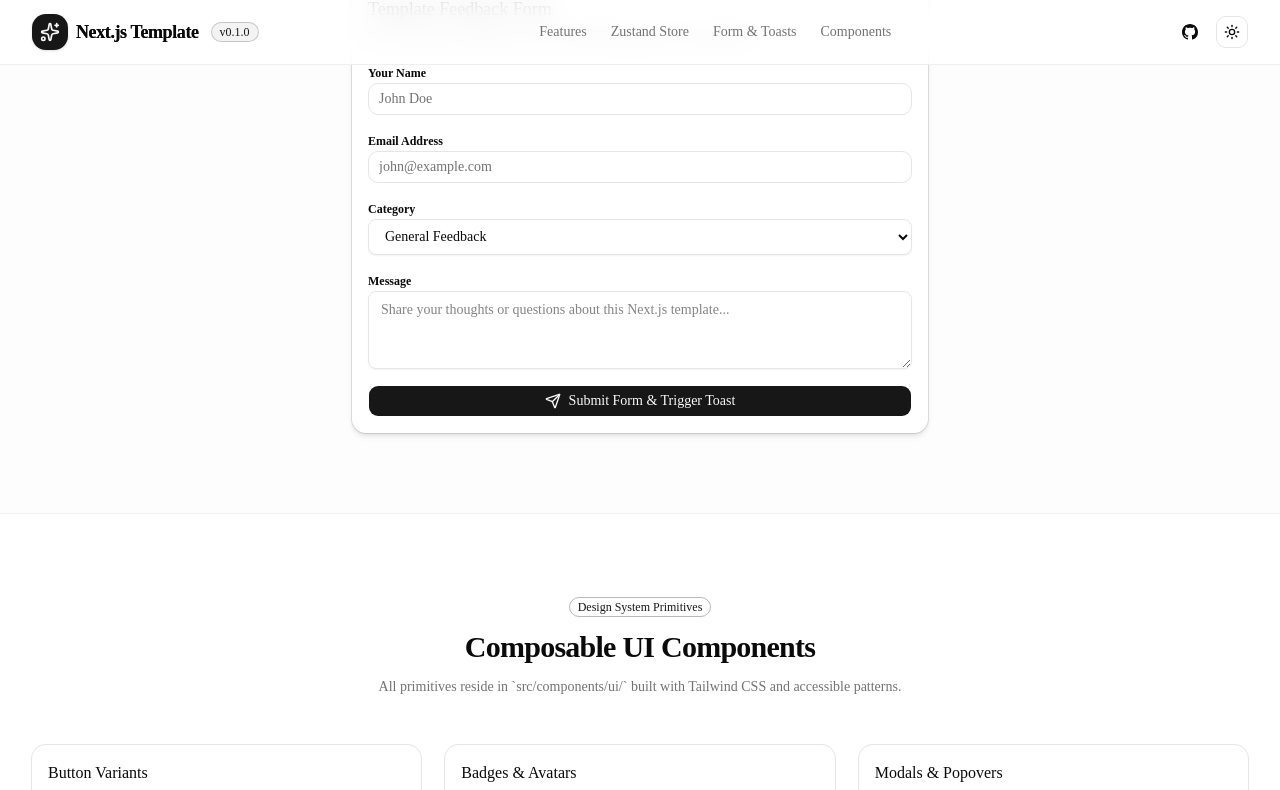
Test case: Home Page › displays validation errors when submitting the feedback form empty
(page scrolled)
What coordinates should you click on to do the following:
click the button "Submit Form & Trigger Toast"
I would click on:
 (640, 400)
Its box is [368,384,912,416].
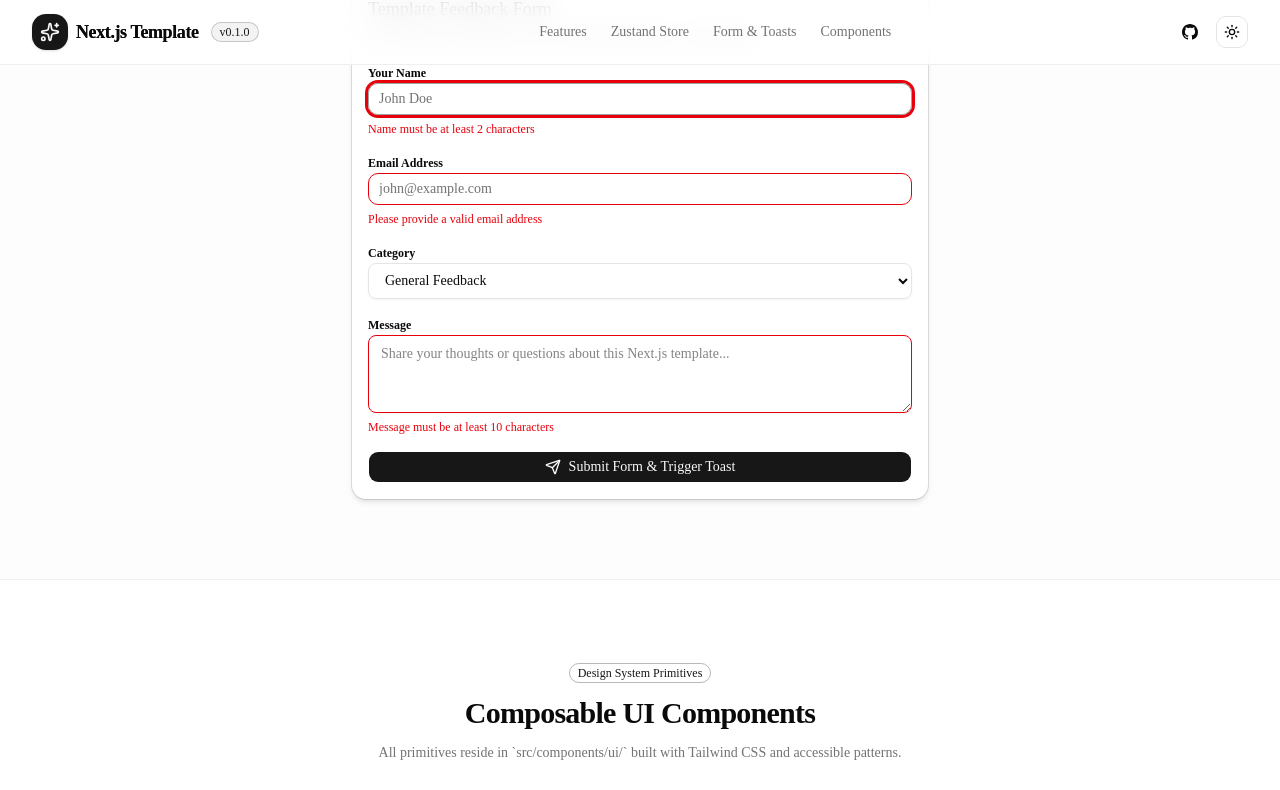
Result: the text "Name must be at least 2 characters" is shown at [368,122,535,136]
Result: the text "Please provide a valid email address" is shown at [368,212,542,226]
Result: the text "Message must be at least 10 characters" is shown at [368,420,554,434]
